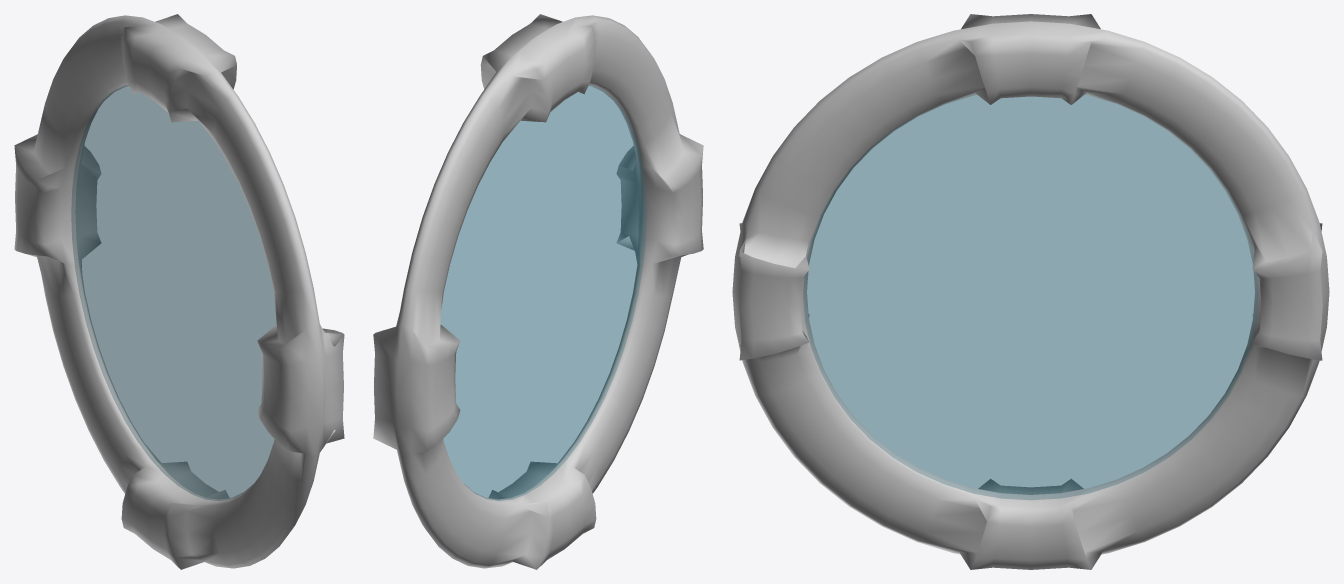
The model's file is portal.fbx.
3 renders of one model, left to right at view 1: azimuth 30°, elevation 25°; view 2: azimuth 150°, elevation 25°; view 3: azimuth 270°, elevation 25°, orthographic. The views are drawn at different scales.
Parts seen in each view (by area): view 1: Border, Circle, Circle.001; view 2: Border, Circle, Circle.001; view 3: Circle.001, Circle, Border.
Part boxes in pixels (<box>): Border: <box>14,14,344,569</box>; Circle: <box>71,85,276,500</box>; Circle.001: <box>76,86,275,498</box>; Border: <box>373,14,703,569</box>; Circle: <box>441,85,646,500</box>; Circle.001: <box>441,86,641,498</box>; Circle.001: <box>803,94,1258,499</box>; Circle: <box>807,95,1254,494</box>; Border: <box>732,14,1329,569</box>.
Bounding box in the file's own units: 30.2 × 223 × 223.
